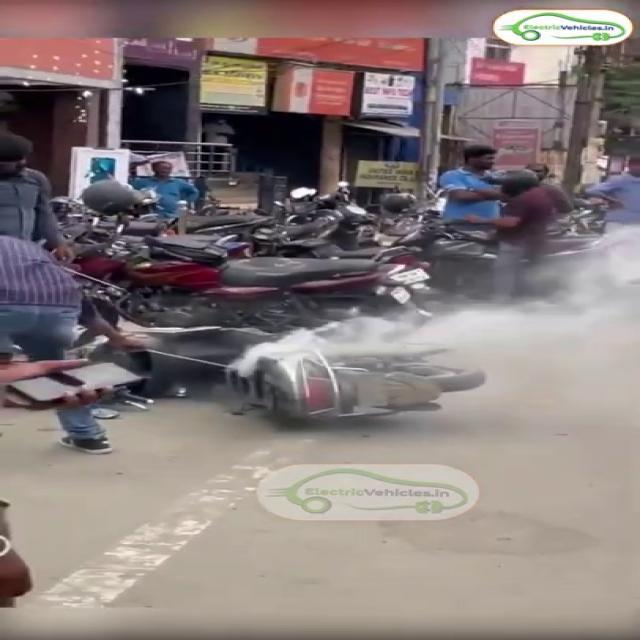Smoke: (255, 206, 640, 428)
